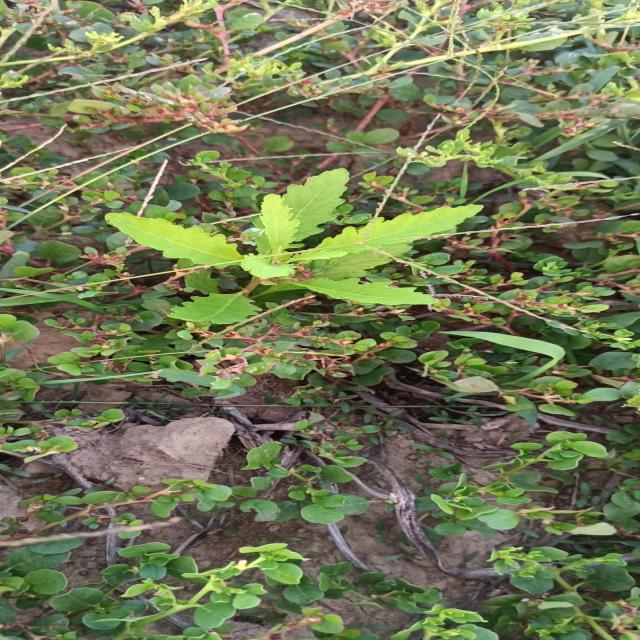plant: (103, 168, 481, 305), (167, 285, 259, 324)
